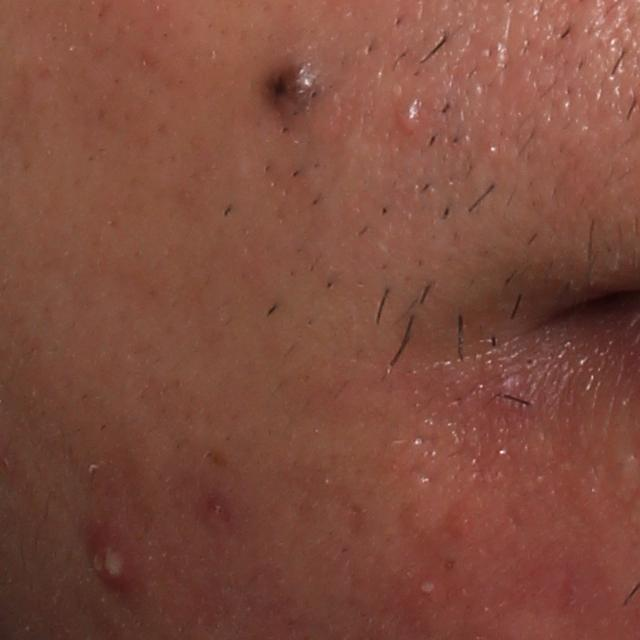nevus: (262, 58, 331, 131)
pustule: (79, 522, 152, 596), (410, 569, 445, 604)
